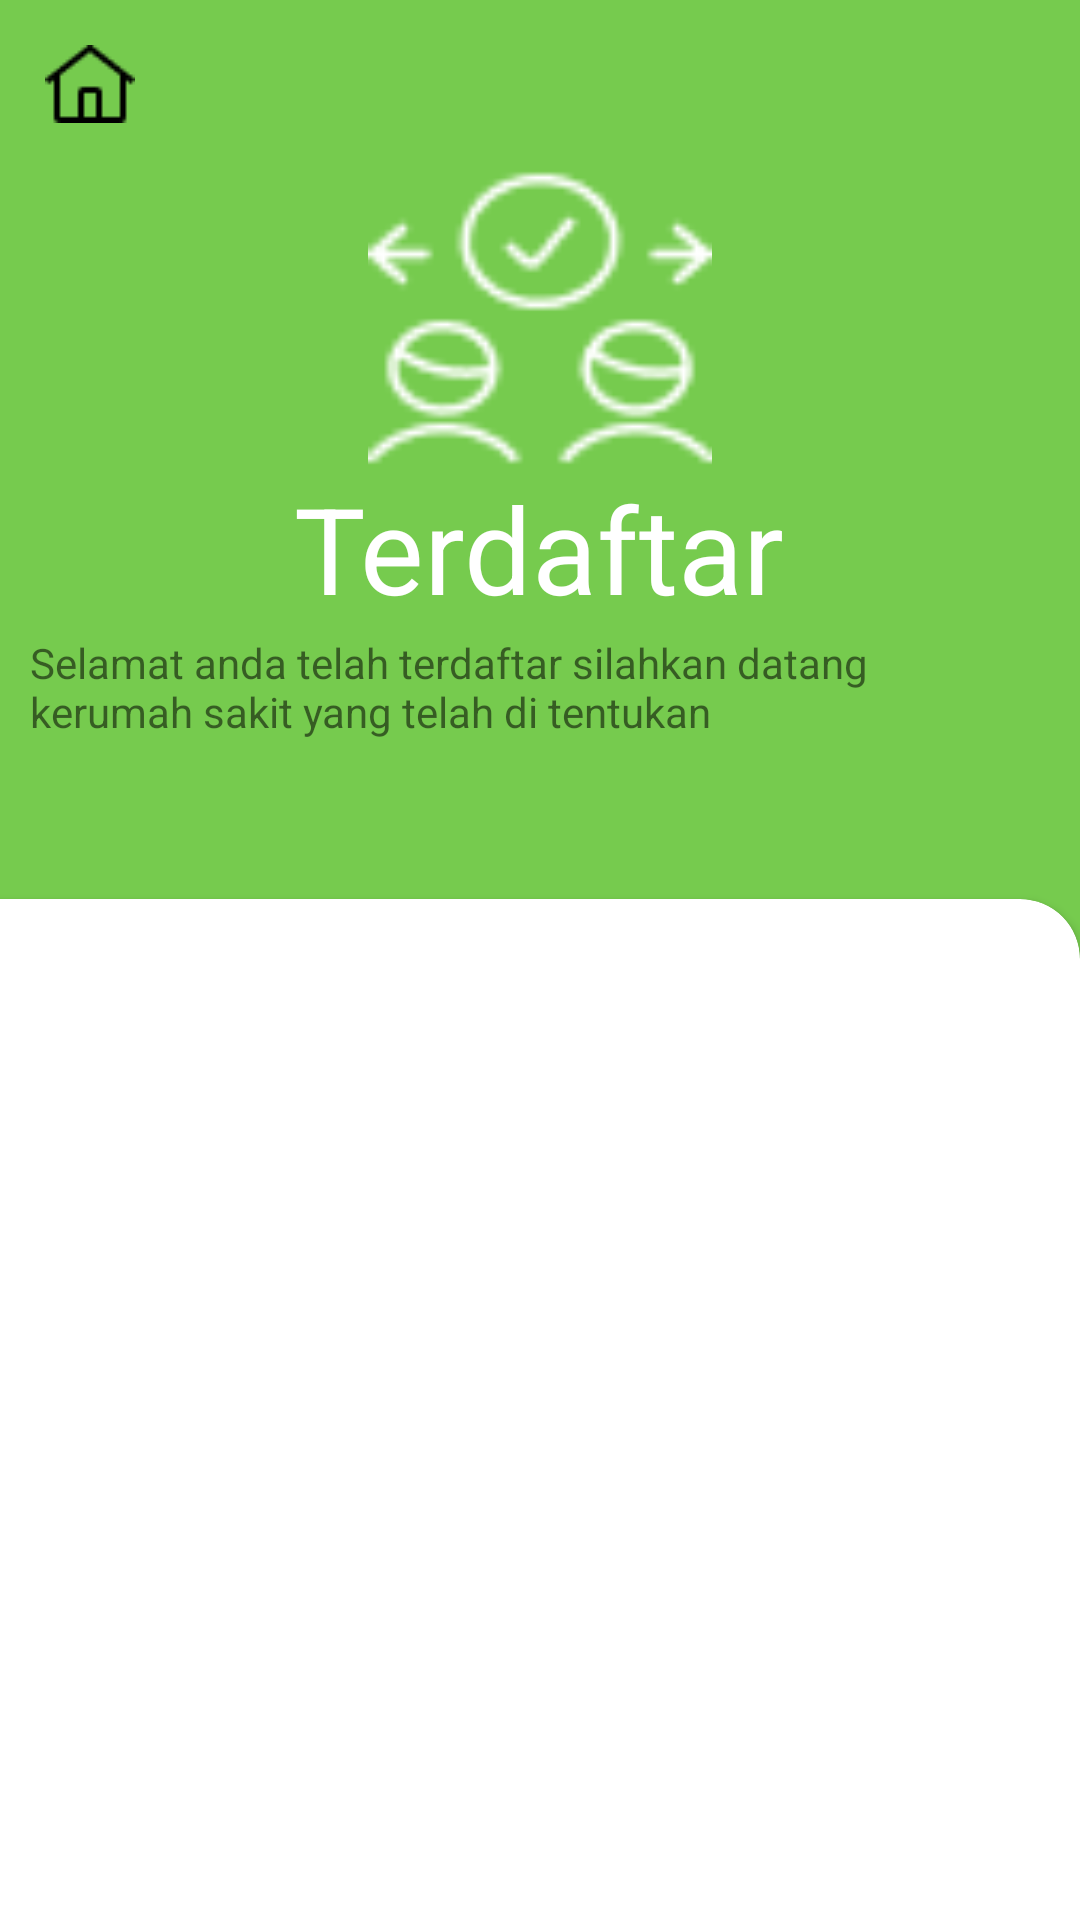

Point at icon controls on the screen. Image size 1080x1920, points as (x,y).
home: (90,84)
